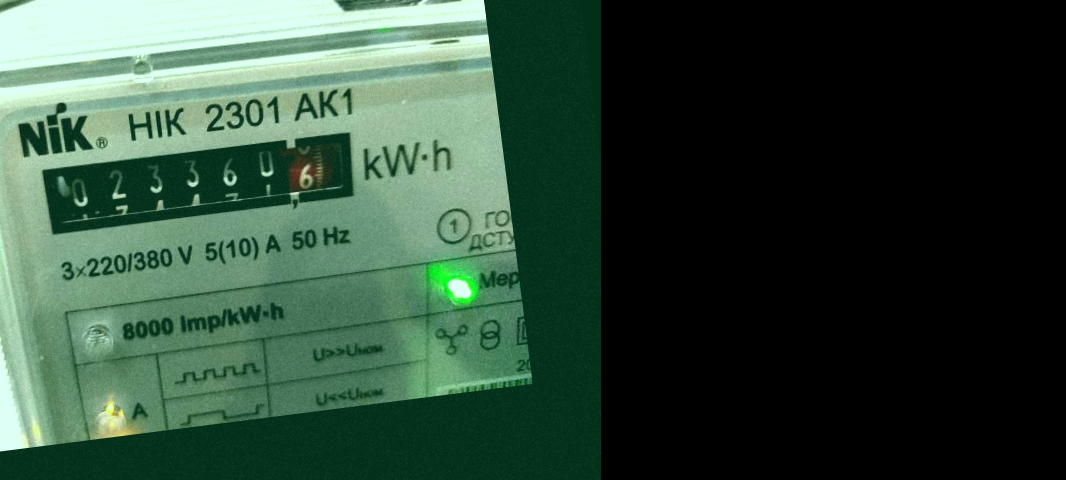0: (66, 173, 91, 209), (255, 146, 276, 179)
2: (103, 165, 130, 202)
3: (141, 161, 166, 195), (180, 155, 202, 188)
6: (216, 153, 240, 188), (292, 159, 316, 190)
screen: (21, 111, 373, 252)
